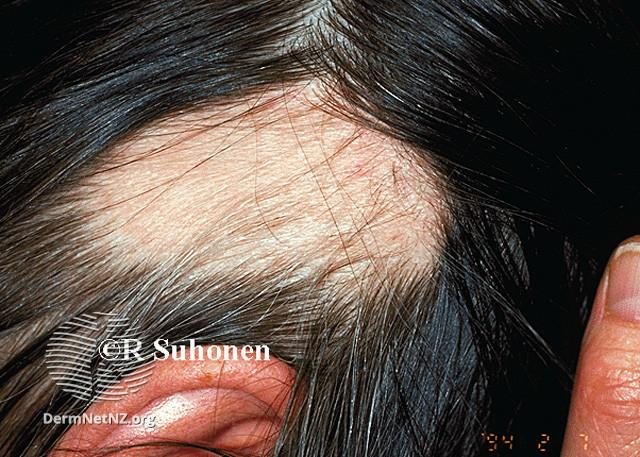Alopecia Areata: (97, 80, 430, 308)
